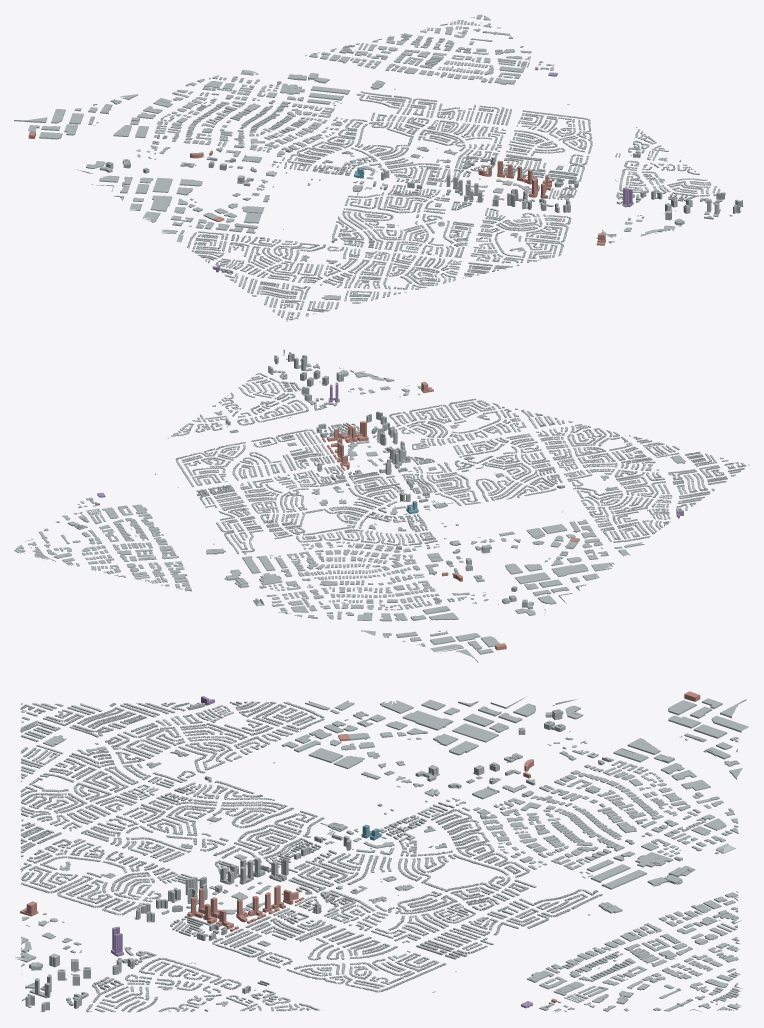
The model's file is uptown.glb.
The picture shows the model from 3 angles, top to bottom: view 1: azimuth 30°, elevation 25°; view 2: azimuth 150°, elevation 25°; view 3: azimuth 270°, elevation 25°; orthographic projection. The views are drawn at different scales.
Visible parts, largest first — view 1: existing-33, existing-22, existing-72, existing-63, existing-32, existing-23; view 2: existing-33, existing-22, existing-72, existing-63, existing-32, existing-23; view 3: existing-33, existing-22, existing-72, existing-63, existing-32, existing-23.
Part boxes in pixels (x1,y1,x2,y2): existing-33: (146,14,531,191); existing-22: (130,156,484,321); existing-72: (493,104,743,219); existing-63: (462,189,684,278); existing-32: (14,89,193,151); existing-23: (77,154,140,201); existing-33: (14,458,474,618); existing-22: (388,424,749,596); existing-72: (155,350,377,487); existing-63: (336,367,573,452); existing-32: (326,601,499,662); existing-23: (483,584,585,615); existing-33: (247,745,742,1011); existing-22: (20,699,559,886); existing-72: (22,892,456,1012); existing-63: (15,819,226,974); existing-32: (580,698,749,808); existing-23: (458,696,583,740).
Bounding box in the file's own units: 4725 × 188 × 4724.
